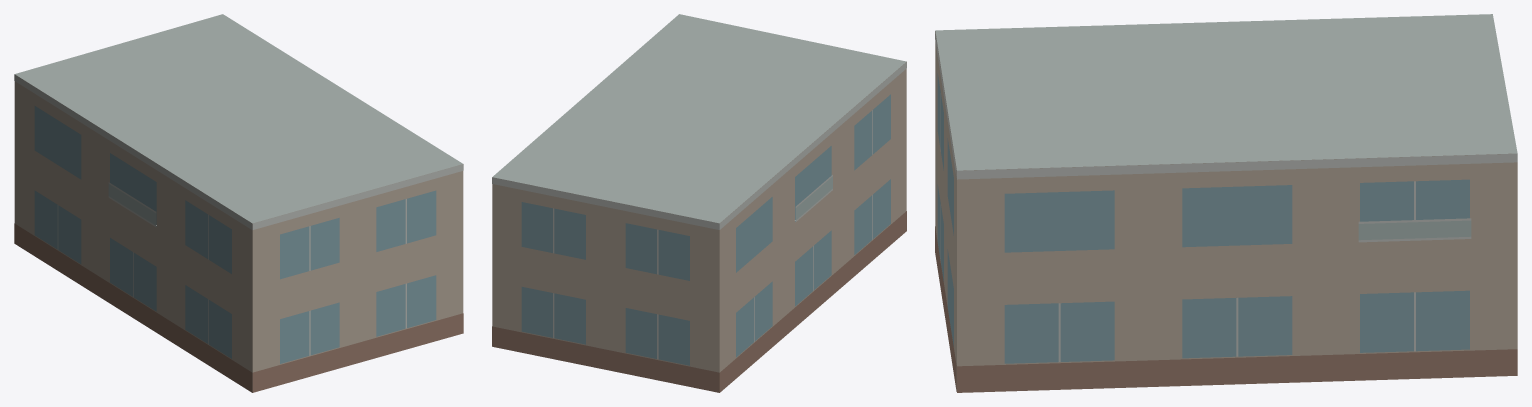
File: survey-upis-32668285.glb
3 renders of one model, left to right at view 1: azimuth 30°, elevation 25°; view 2: azimuth 150°, elevation 25°; view 3: azimuth 270°, elevation 25°, orthographic. The views are drawn at different scales.
Visible parts, largest first — view 1: survey-upis-32668285.tmp; view 2: survey-upis-32668285.tmp; view 3: survey-upis-32668285.tmp.
Part boxes in pixels (x1=…): survey-upis-32668285.tmp: x1=14, y1=14, x2=463, y2=392; survey-upis-32668285.tmp: x1=492, y1=14, x2=906, y2=392; survey-upis-32668285.tmp: x1=935, y1=14, x2=1517, y2=392.
Size of the model in its own units: 9.23 by 6.1 by 14.5.
